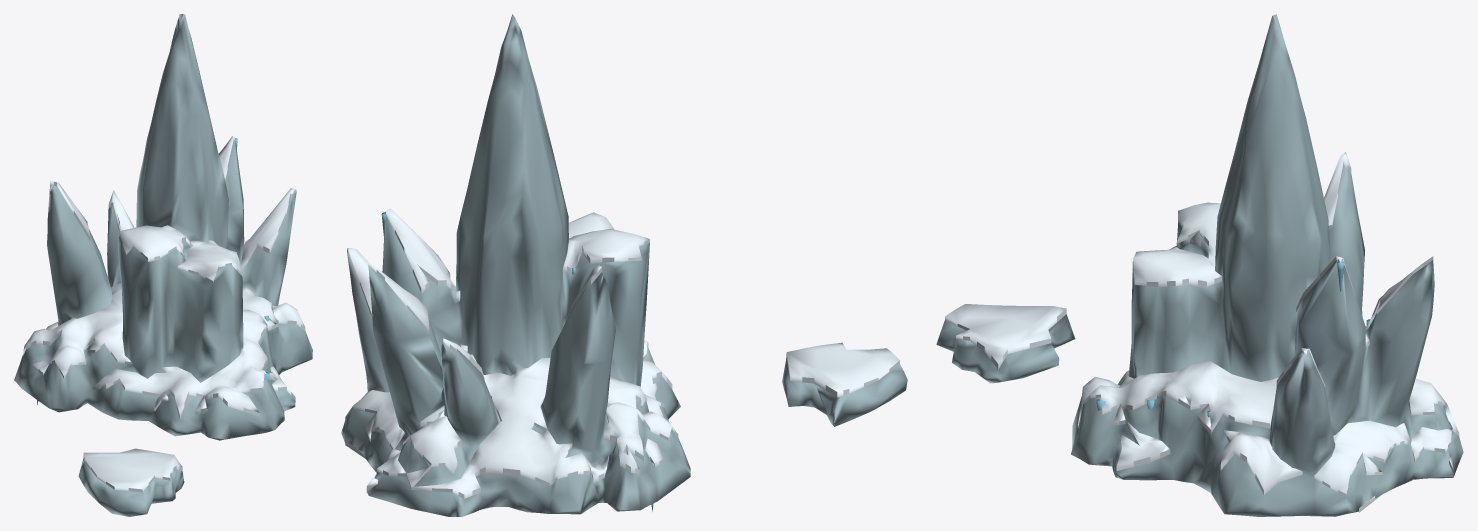
Rendered from BossRoom_CrystalCluster.fbx.
3 views of the same model, side by side, from view 1: azimuth 30°, elevation 25°; view 2: azimuth 150°, elevation 25°; view 3: azimuth 270°, elevation 25° (orthographic). The views are drawn at different scales.
Parts seen in each view (by area): view 1: BossRoom_CrystalCluster_LOD0; view 2: BossRoom_CrystalCluster_LOD0; view 3: BossRoom_CrystalCluster_LOD0.
Boxes of the visible parts, <box> form: BossRoom_CrystalCluster_LOD0: <box>14,14,312,516</box>; BossRoom_CrystalCluster_LOD0: <box>341,14,907,516</box>; BossRoom_CrystalCluster_LOD0: <box>936,14,1463,516</box>.
Size of what is drawn, in the model's own units: 5.22 by 5.67 by 6.
